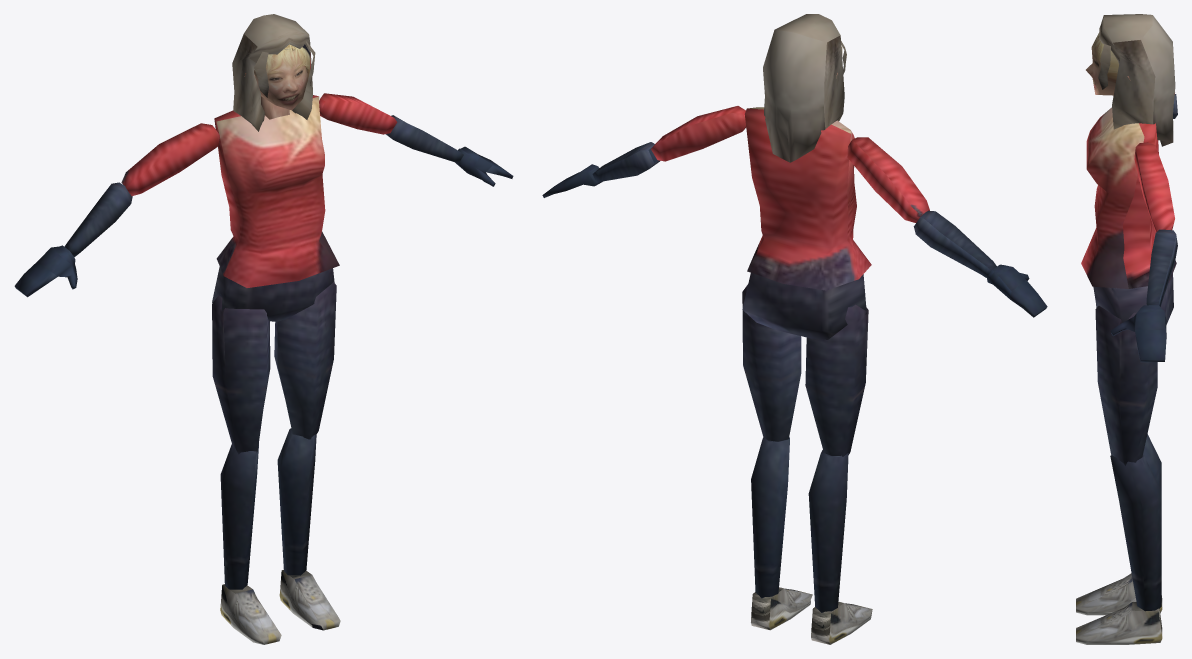
Rendered from zoya5.fbx.
The picture shows the model from 3 angles, left to right: view 1: azimuth 30°, elevation 25°; view 2: azimuth 150°, elevation 25°; view 3: azimuth 270°, elevation 25°; orthographic projection.
Visible parts, largest first — view 1: Female_3; view 2: Female_3; view 3: Female_3.
Boxes of the visible parts, x1,y1,x2,y2 form: Female_3: (14,14,513,644); Female_3: (542,14,1047,644); Female_3: (1076,14,1177,644).
Bounding box in the file's own units: 165 × 192 × 29.34.
Materials: 1 (1 with a texture image).
